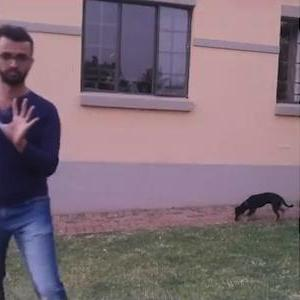follow_hand: (1, 92, 45, 147)
